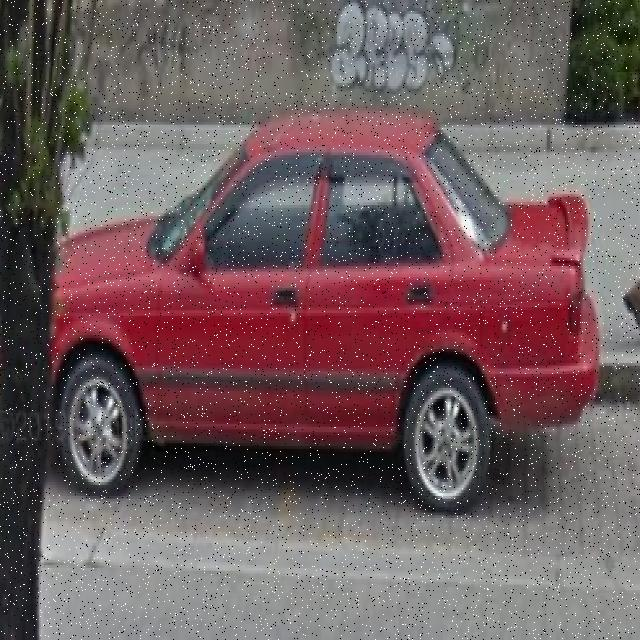cars: (62, 117, 598, 523)
